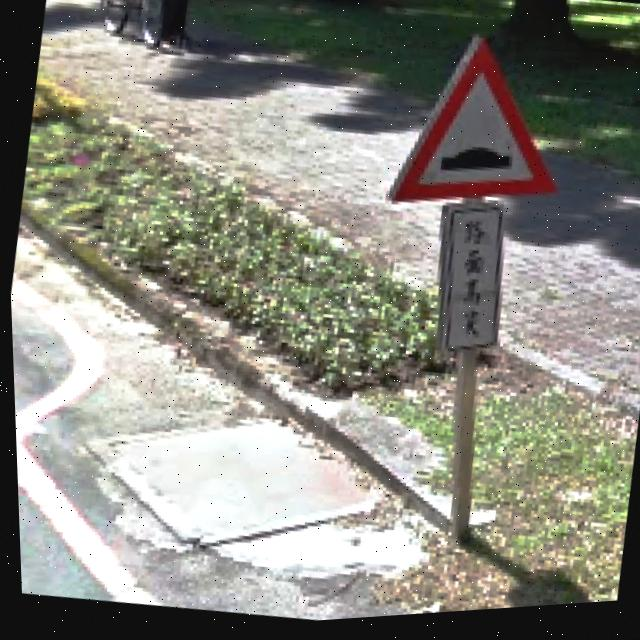hump: (389, 44, 558, 206)
